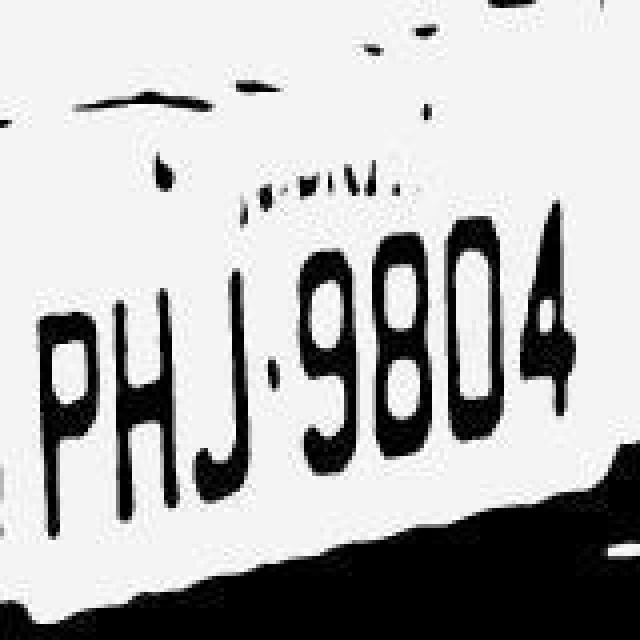4: (514, 204, 590, 468)
8: (364, 242, 436, 510)
9: (286, 258, 362, 526)
H: (104, 280, 176, 536)
J: (188, 264, 260, 528)
O: (436, 224, 508, 488)
P: (24, 290, 104, 558)
